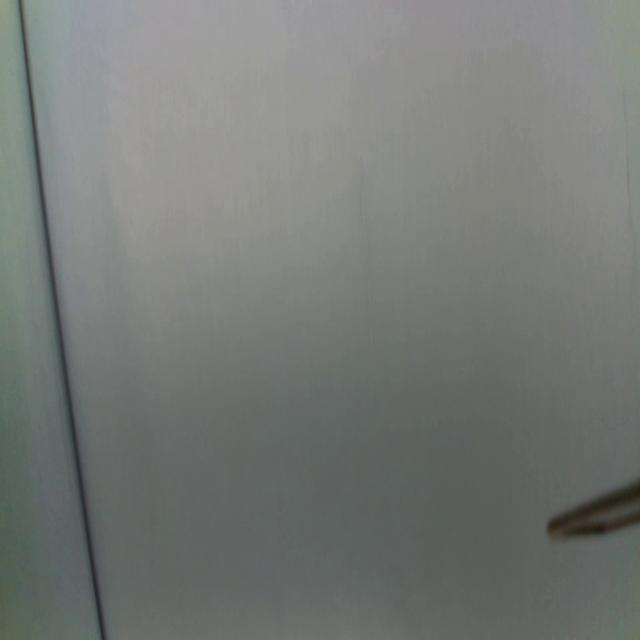crease: (19, 0, 105, 635)
